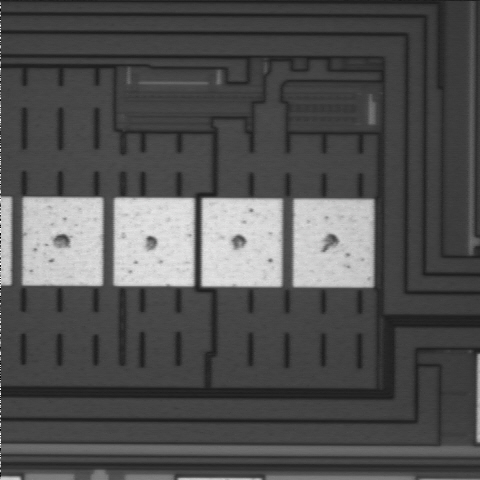pad: (202, 198, 282, 287), (23, 198, 103, 286), (114, 198, 194, 286), (293, 199, 373, 287)
